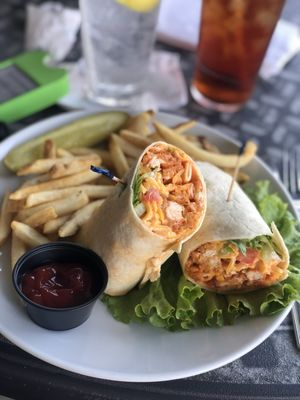pizza: (188, 0, 287, 116), (78, 0, 160, 109)
sushi: (11, 242, 108, 331)
